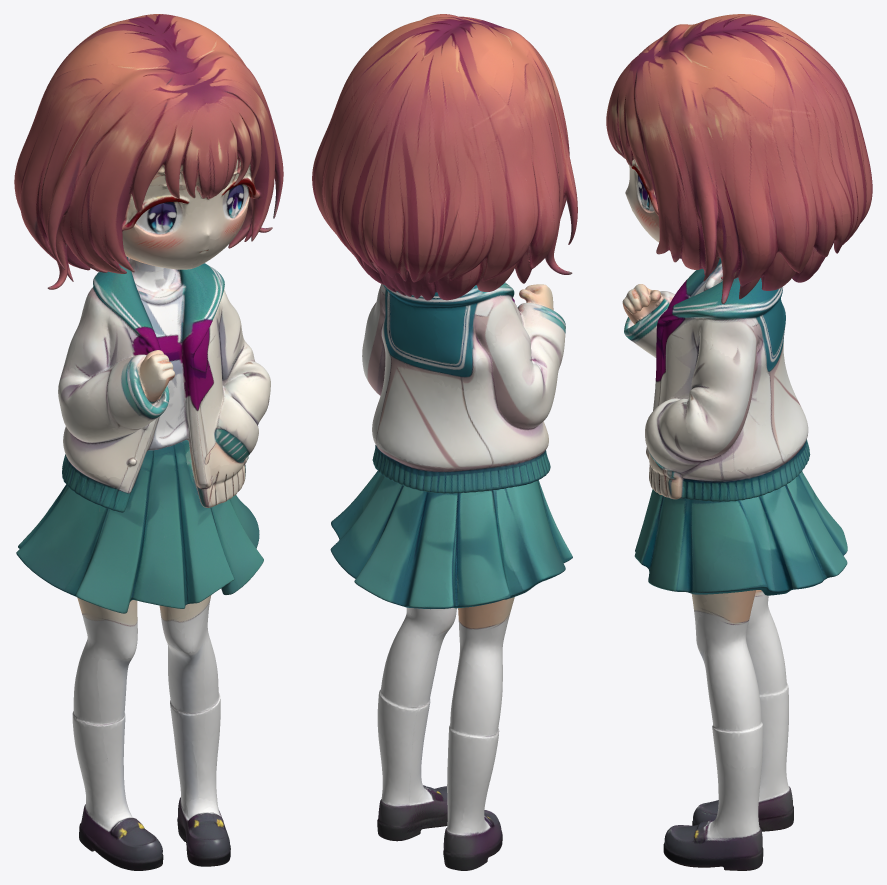
File: anime_girl_textured.glb
3 views of the same model, side by side, from view 1: azimuth 30°, elevation 25°; view 2: azimuth 150°, elevation 25°; view 3: azimuth 270°, elevation 25° (orthographic).
Size of the model in its own units: 0.5717 by 1.9 by 0.5619.
1 material, 1 textured.
